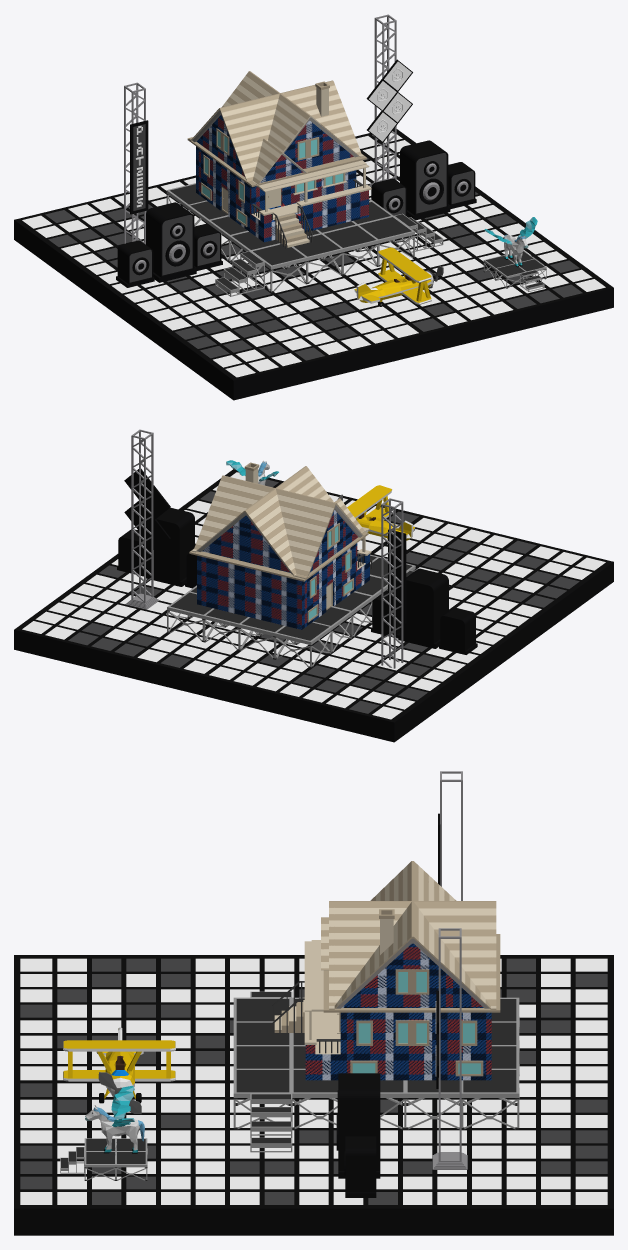
3 renders of one model, top to bottom at view 1: azimuth 30°, elevation 25°; view 2: azimuth 150°, elevation 25°; view 3: azimuth 270°, elevation 25°, orthographic. The views are drawn at different scales.
Visible parts, largest first — view 1: Cube.008, Cube.171, VEHICLES_AIRPLANE, ANIMAL_PEGASO; view 2: Cube.008, Cube.171, VEHICLES_AIRPLANE; view 3: Cube.008, Cube.171, VEHICLES_AIRPLANE, ANIMAL_PEGASO.
Boxes of the visible parts, x1,y1,x2,y2 form: Cube.008: (14, 14, 613, 400); Cube.171: (187, 71, 371, 248); VEHICLES_AIRPLANE: (354, 247, 443, 306); ANIMAL_PEGASO: (484, 217, 537, 267); Cube.008: (14, 429, 613, 742); Cube.171: (189, 462, 372, 629); VEHICLES_AIRPLANE: (337, 485, 415, 544); Cube.008: (14, 771, 613, 1235); Cube.171: (272, 861, 500, 1080); VEHICLES_AIRPLANE: (63, 1027, 175, 1114); ANIMAL_PEGASO: (85, 1086, 144, 1153).
Size of the model in its own units: 4000 by 1995 by 4000.
Materials: 38 (3 with a texture image).
